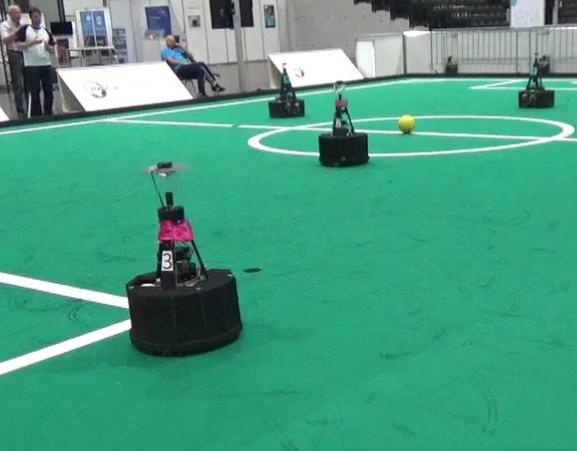robot: (121, 160, 246, 359), (314, 79, 373, 170)
